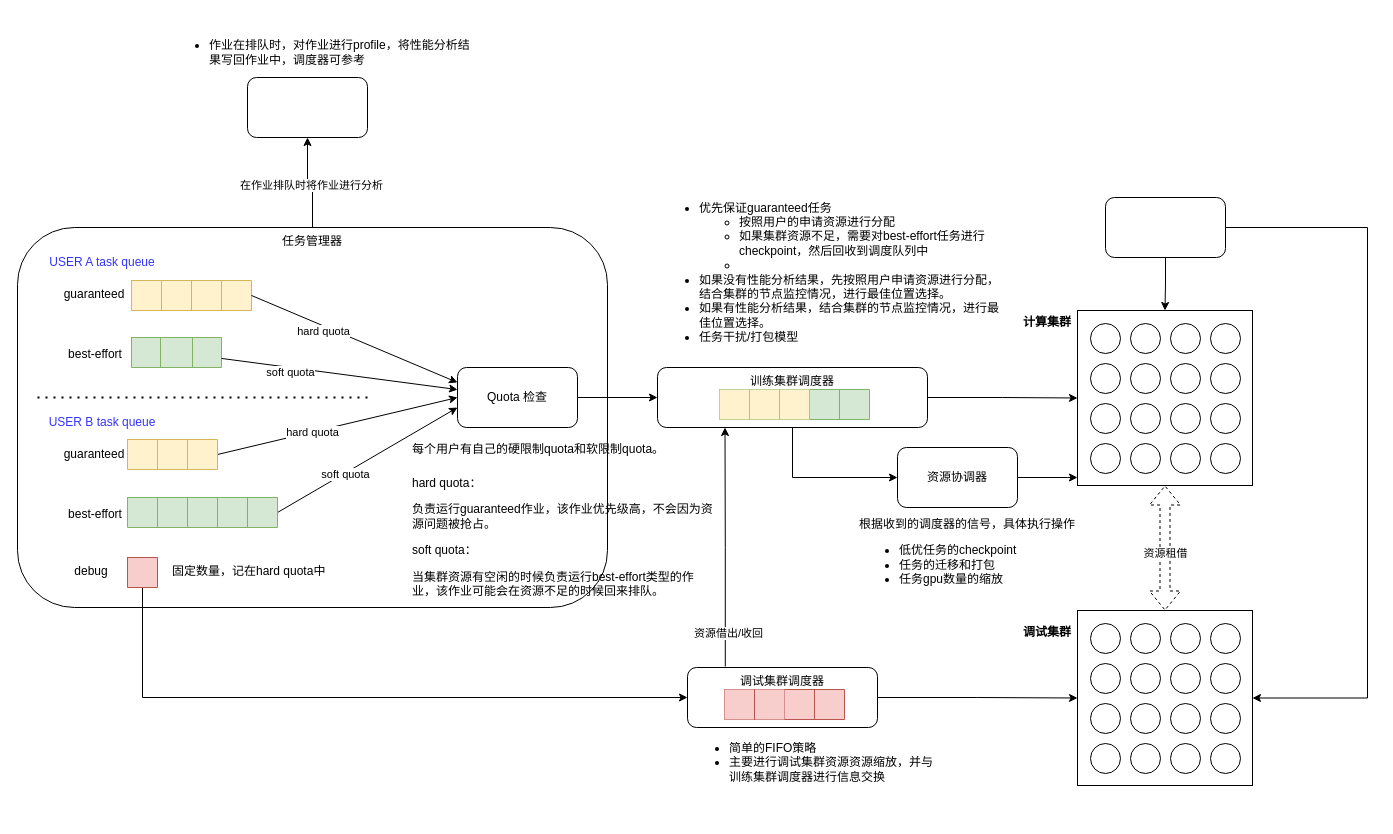
This 1393x834 diagram has some shape labels left out. The centre of each missing label's shape, as x and y in pixels:
profiler性能分析: (307,107)
监控: (1165,227)
